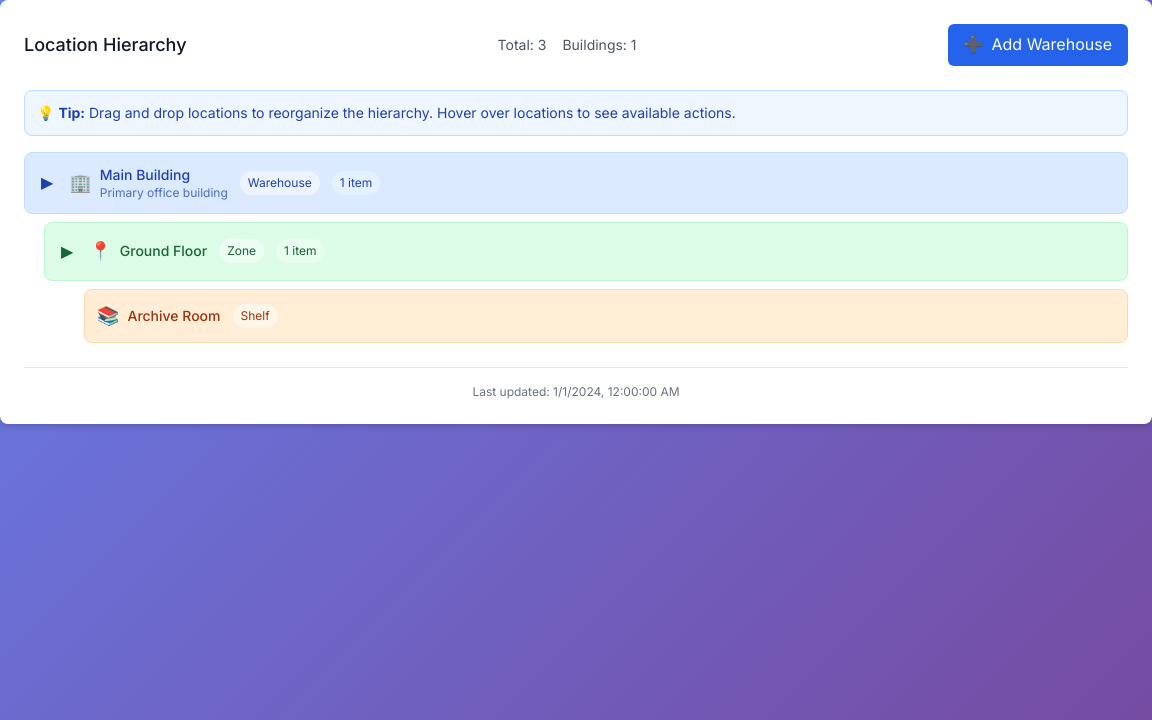
Test: LocationHierarchy Component › shows action buttons on hover when canEdit is true
The image size is (1152, 720).
Hover over the text "Main Building" at [145, 174], box [100,166,190,183]
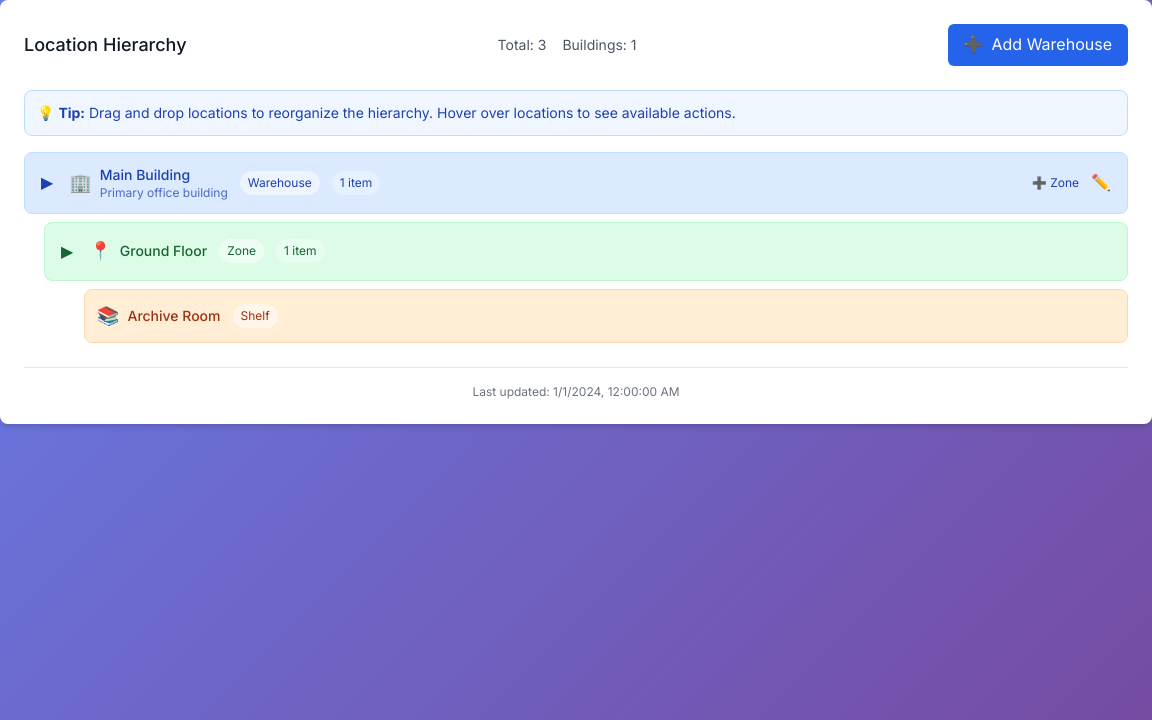
Check: the button titled "Edit location" is shown, box [1087,166,1115,199]
